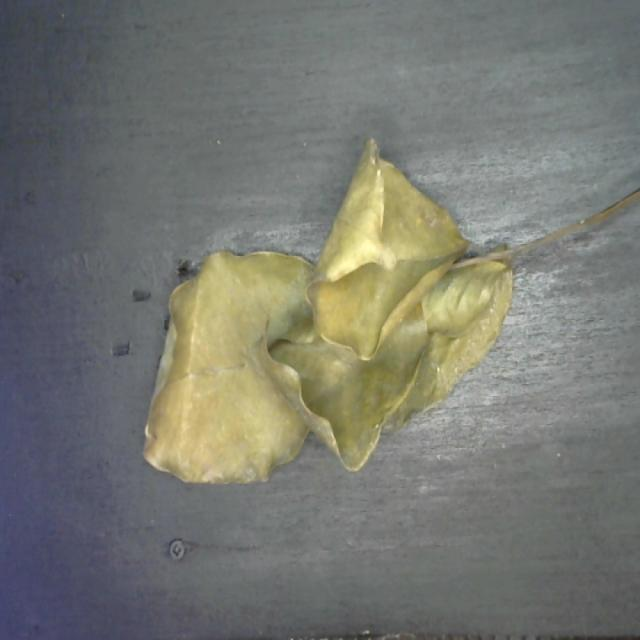biodegradable: (135, 130, 517, 490)
